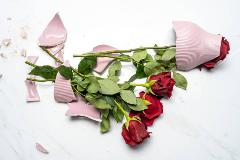organic: (120, 70, 182, 148), (80, 74, 102, 96), (102, 79, 118, 97)
